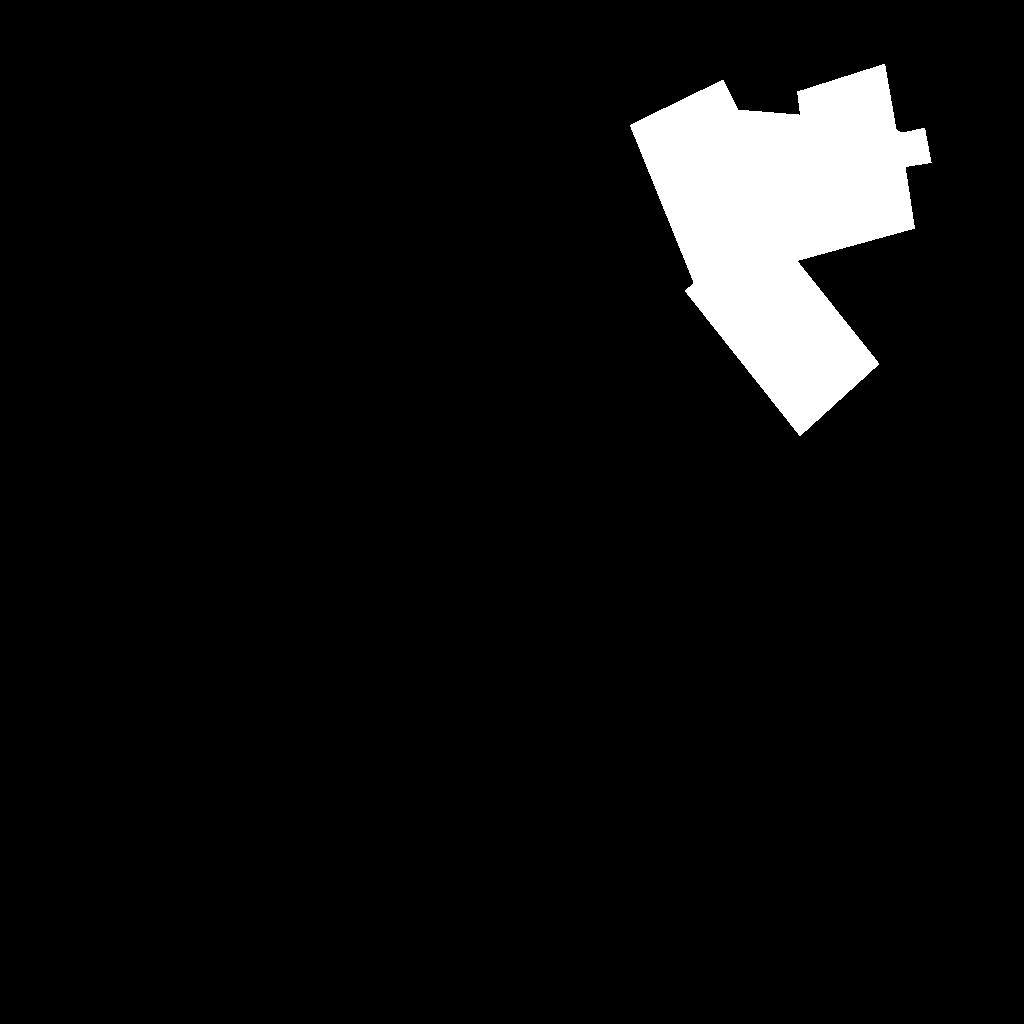building: (630, 64, 932, 437)
